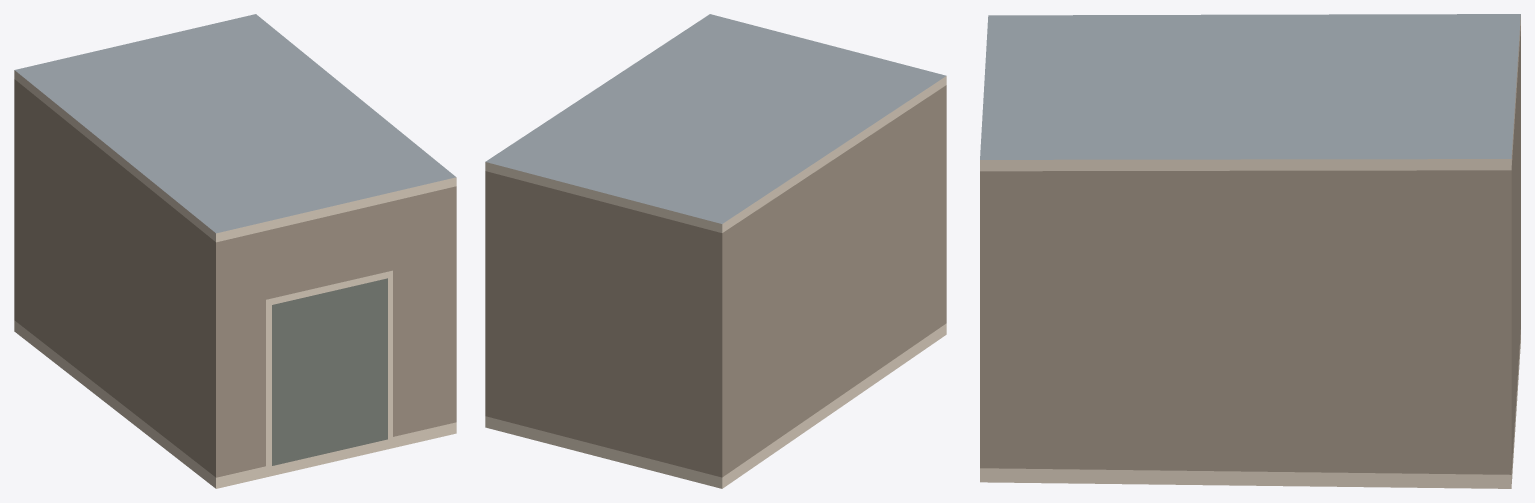
Rendered from dc-au-media-center-west-outbuilding.glb.
3 views of the same model, side by side, from view 1: azimuth 30°, elevation 25°; view 2: azimuth 150°, elevation 25°; view 3: azimuth 270°, elevation 25° (orthographic). The views are drawn at different scales.
Visible parts, largest first — view 1: West Outbuilding near the Media Production Center; view 2: West Outbuilding near the Media Production Center; view 3: West Outbuilding near the Media Production Center.
Part boxes in pixels (x1,y1,x2,y2): West Outbuilding near the Media Production Center: (14, 14, 456, 488); West Outbuilding near the Media Production Center: (485, 14, 946, 488); West Outbuilding near the Media Production Center: (980, 14, 1520, 488).
Bounding box in the file's own units: 3.46 × 3.5 × 5.25.
